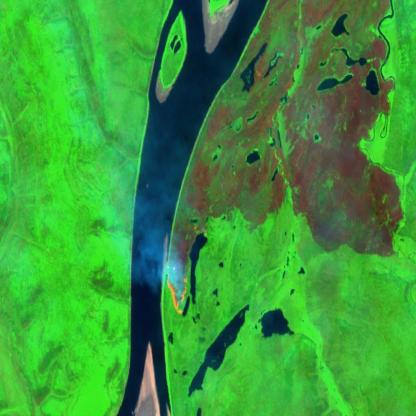fire: (162, 262, 190, 316)
